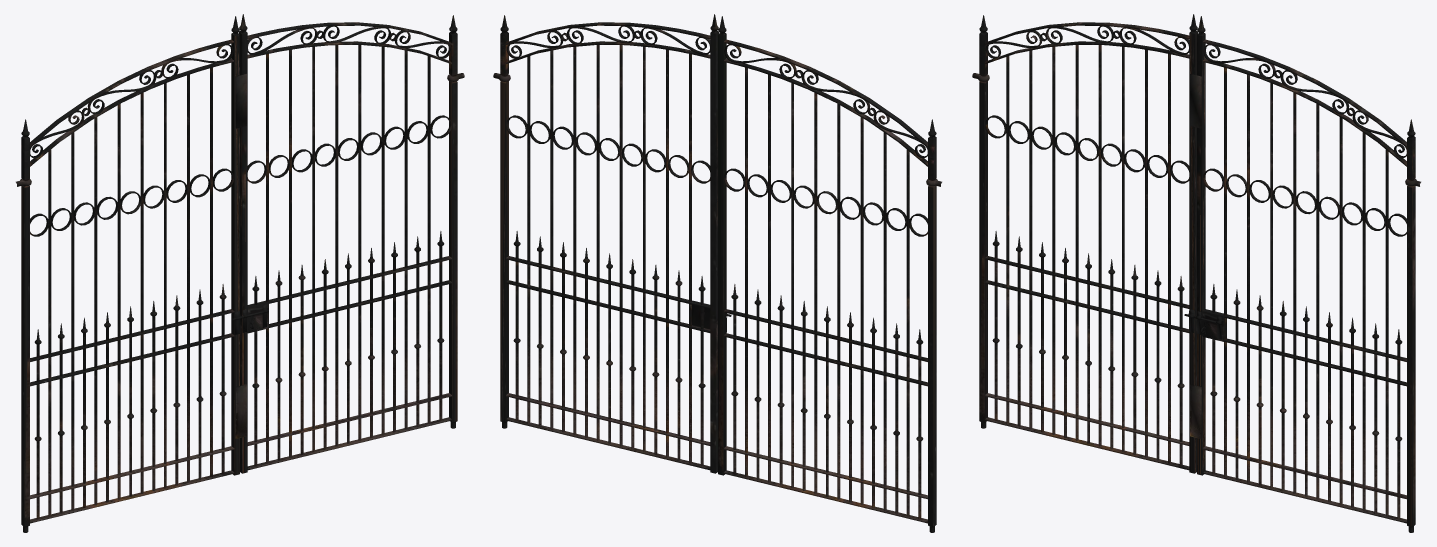
File: large-iron-gate.glb
The picture shows the model from 3 angles, left to right: view 1: azimuth 30°, elevation 25°; view 2: azimuth 150°, elevation 25°; view 3: azimuth 330°, elevation 25°; orthographic projection.
Visible parts, largest first — view 1: large_iron_gate; view 2: large_iron_gate; view 3: large_iron_gate.
Part boxes in pixels (x1,y1,x2,y2): large_iron_gate: (16, 14, 464, 532); large_iron_gate: (493, 14, 941, 532); large_iron_gate: (972, 14, 1420, 532).
Bounding box in the file's own units: 2.95 × 2.93 × 0.0965.
1 material, 1 textured.
